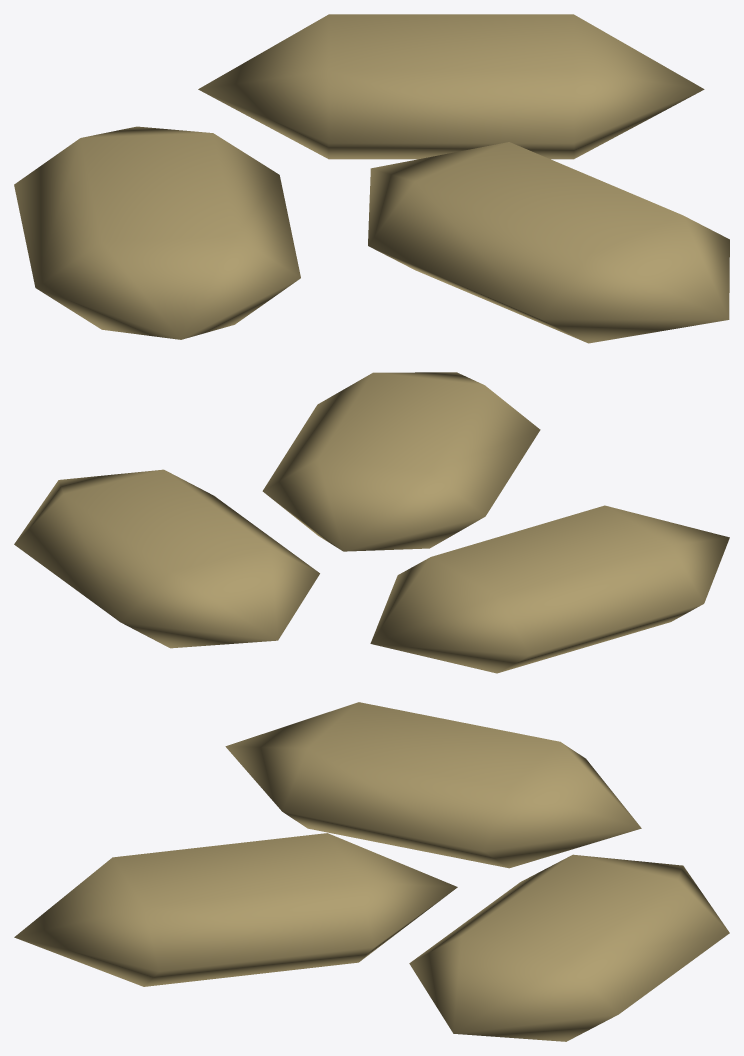
The model's file is Seeds.FBX.
3 views of the same model, one above another, from view 1: azimuth 30°, elevation 25°; view 2: azimuth 150°, elevation 25°; view 3: azimuth 270°, elevation 25° (orthographic). The views are drawn at different scales.
Parts seen in each view (by area): view 1: Cylinder001; view 2: Cylinder001; view 3: Cylinder001.
Boxes of the visible parts, x1,y1,x2,y2 form: Cylinder001: (14, 14, 729, 343); Cylinder001: (14, 372, 729, 673); Cylinder001: (14, 702, 729, 1041).
Bounding box in the file's own units: 4.96 × 0.5924 × 4.79.
